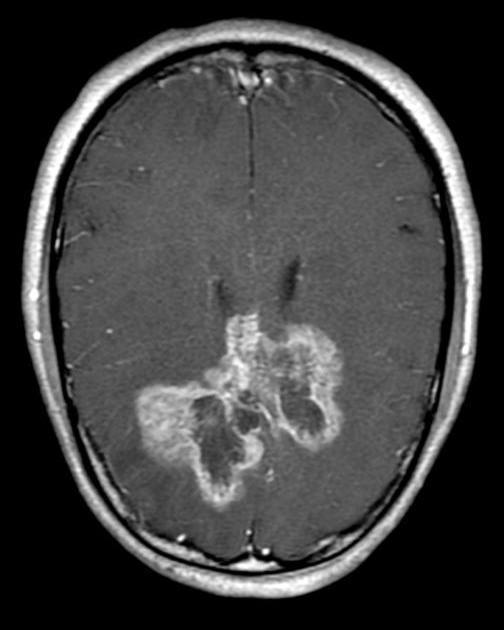Tumor: (126, 317, 367, 510)
